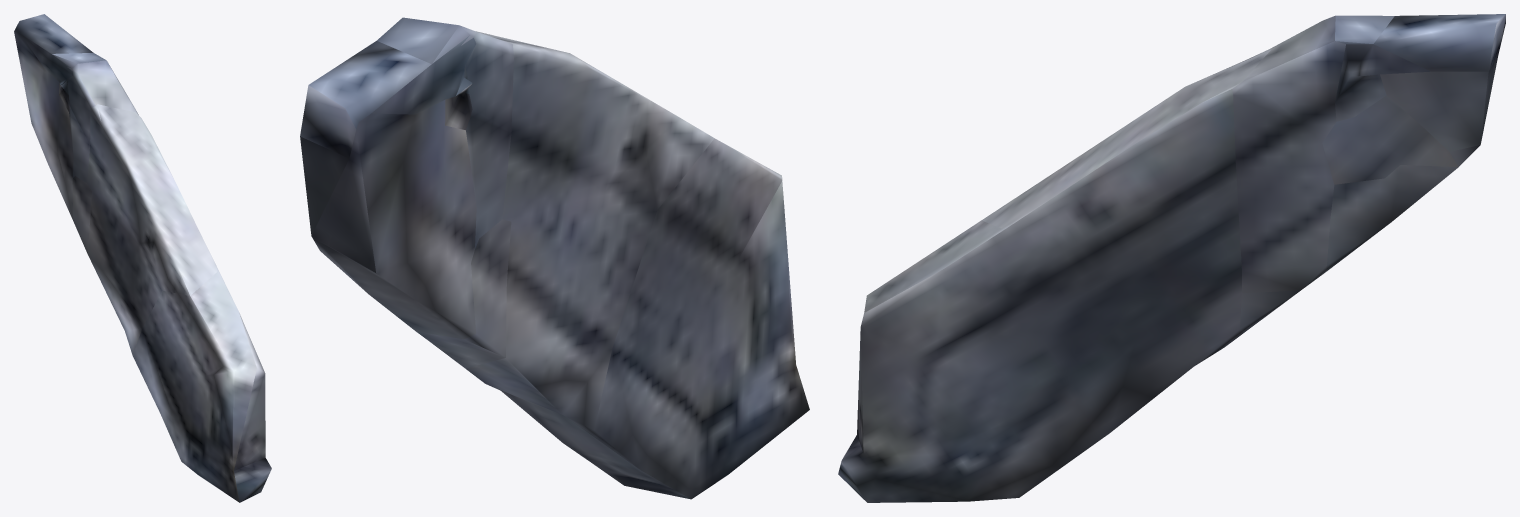
File: freighter_part_7.glb
3 renders of one model, left to right at view 1: azimuth 30°, elevation 25°; view 2: azimuth 150°, elevation 25°; view 3: azimuth 270°, elevation 25°, orthographic. The views are drawn at different scales.
Visible parts, largest first — view 1: part7; view 2: part7; view 3: part7.
Boxes of the visible parts, x1,y1,x2,y2 form: part7: (14,14,271,502); part7: (300,17,809,499); part7: (838,14,1505,502).
Size of the model in its own units: 0.0196 by 0.1453 by 0.1835.
1 material, 1 textured.
